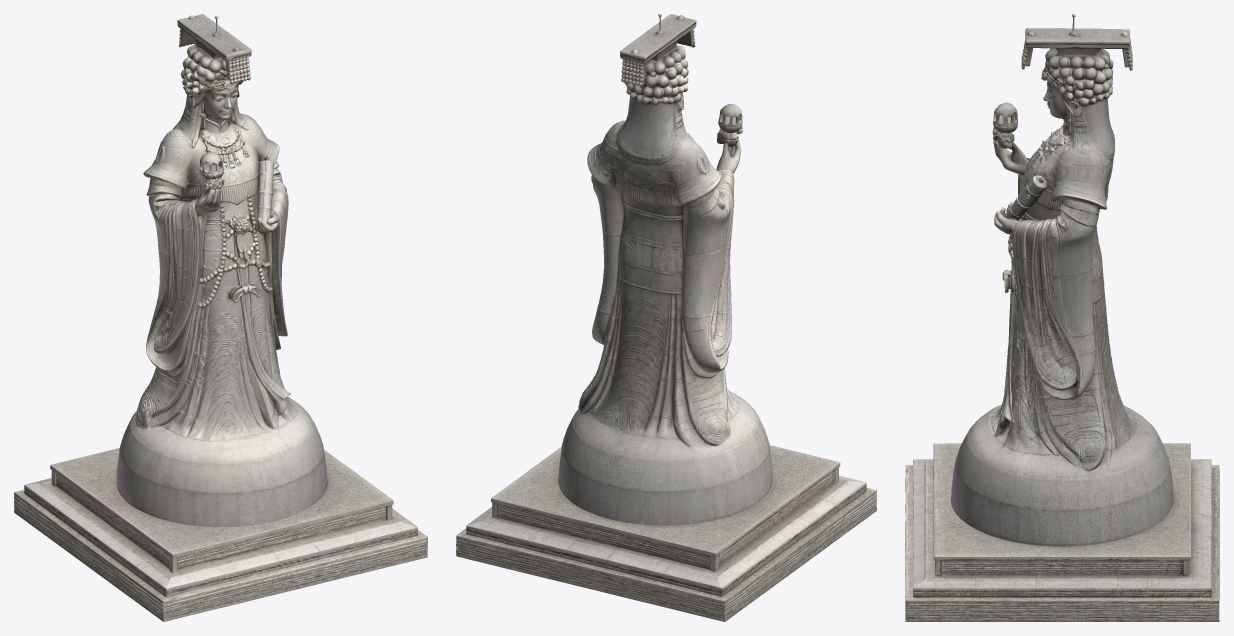
The model's file is statue.glb.
3 views of the same model, side by side, from view 1: azimuth 30°, elevation 25°; view 2: azimuth 150°, elevation 25°; view 3: azimuth 270°, elevation 25° (orthographic). The views are drawn at different scales.
Size of the model in its own units: 0.5268 by 0.9796 by 0.5155.
1 material, 1 textured.
